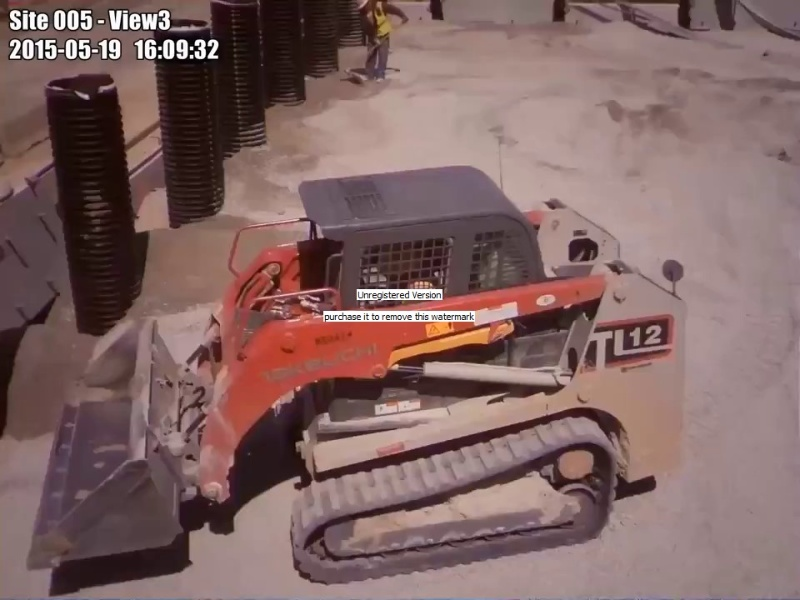bulldozer: (23, 163, 692, 587)
columns: (44, 69, 146, 337), (153, 19, 226, 229), (208, 1, 269, 156), (259, 1, 308, 111), (303, 1, 340, 79), (336, 1, 366, 48)
hardhat: (356, 1, 369, 13)
person: (357, 1, 410, 85)
